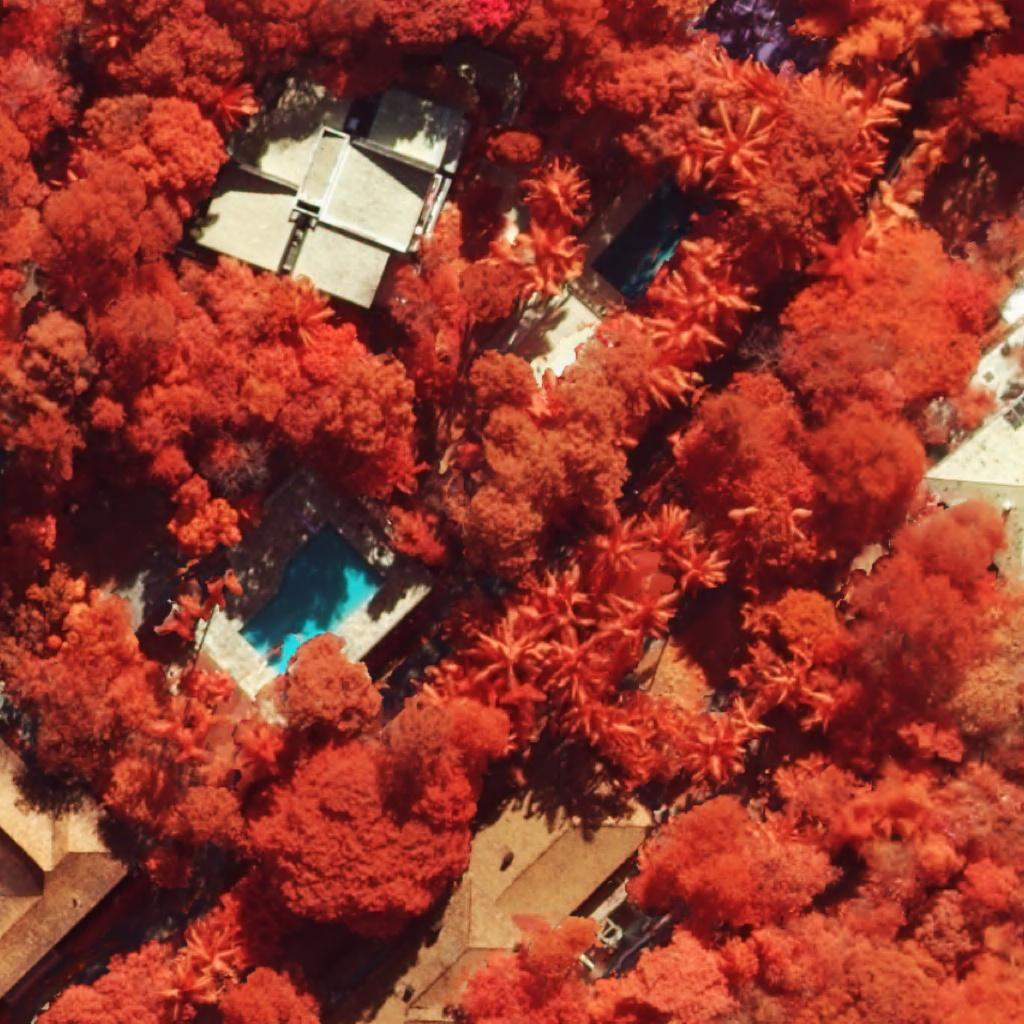pool: (238, 521, 385, 674), (591, 180, 696, 298)
